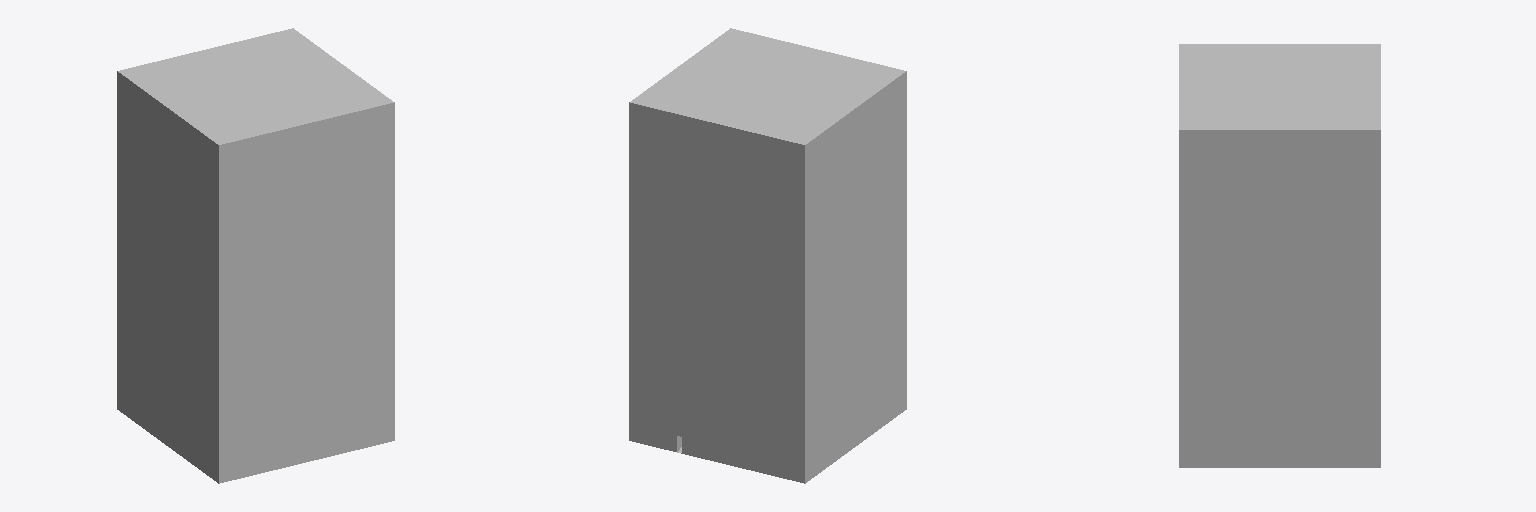
The model's file is mansion.obj.
3 views of the same model, side by side, from view 1: azimuth 30°, elevation 25°; view 2: azimuth 150°, elevation 25°; view 3: azimuth 270°, elevation 25° (orthographic).
Visible parts, largest first — view 1: mansion; view 2: mansion; view 3: mansion.
Boxes of the visible parts, x1,y1,x2,y2 form: mansion: [117, 28, 394, 483]; mansion: [629, 28, 906, 483]; mansion: [1179, 44, 1380, 467].
Size of the model in its own units: 100 by 184 by 100.